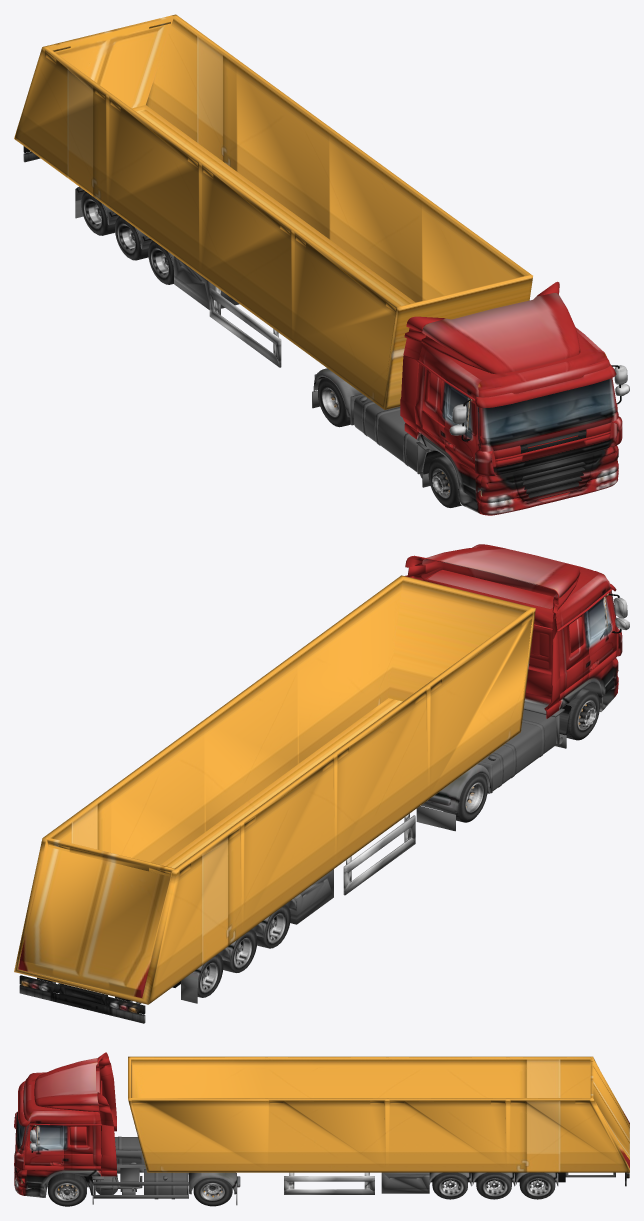
Rendered from Trailer_1.glb.
The picture shows the model from 3 angles, top to bottom: view 1: azimuth 30°, elevation 25°; view 2: azimuth 150°, elevation 25°; view 3: azimuth 270°, elevation 25°; orthographic projection. The views are drawn at different scales.
Visible parts, largest first — view 1: trailer_01; view 2: trailer_01; view 3: trailer_01.
Boxes of the visible parts, x1=… form: trailer_01: x1=14, y1=14, x2=629, y2=515; trailer_01: x1=14, y1=544, x2=629, y2=1023; trailer_01: x1=14, y1=1052, x2=629, y2=1206.
Bounding box in the file's own units: 3 × 2.7 × 13.75.
Materials: 1 (1 with a texture image).
